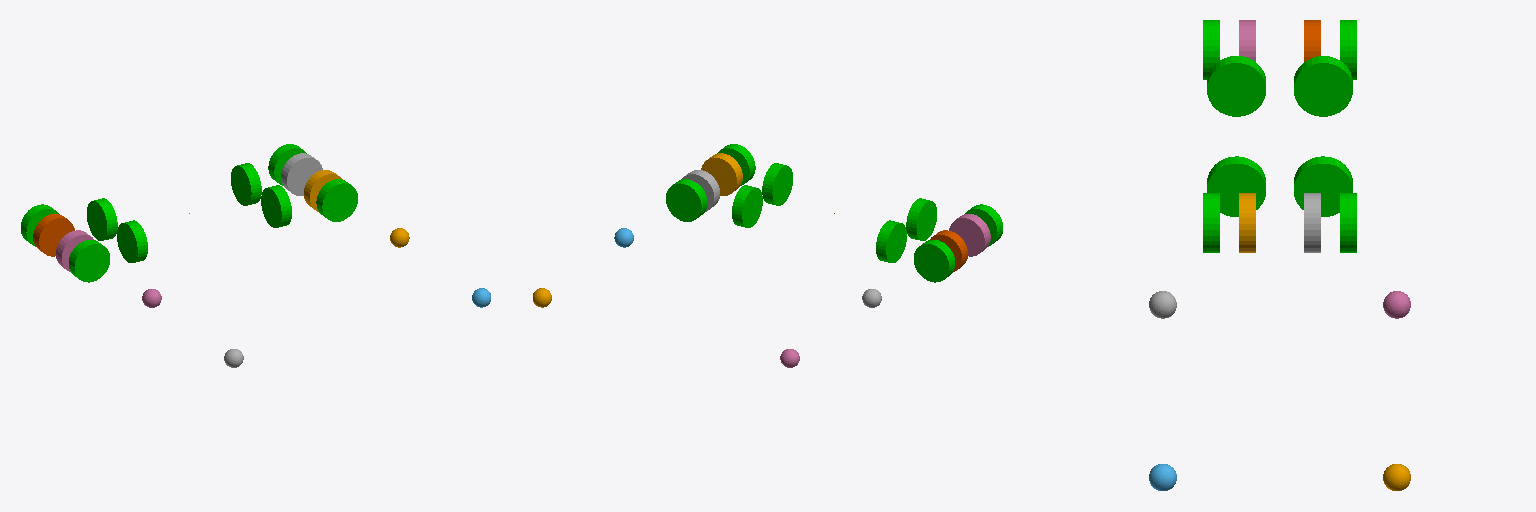
--- What the picture shows (computed from the rendered views, not written in the file) ---
Views: 3 orthographic renders of the robot side by side, from view 1: azimuth 30°, elevation 25°; view 2: azimuth 150°, elevation 25°; view 3: azimuth 270°, elevation 25°.
Robot: aliengo — 31 links, 30 joints (12 revolute, 18 fixed); root link base; default pose: all joints at 0 but 4 set to mid-range because 0 is outside their limits (FR_calf_joint = -1.71, FL_calf_joint = -1.71, RR_calf_joint = -1.71, RL_calf_joint = -1.71).
Links seen in each view (by area): view 1: FR_thigh_rotor, RR_thigh_rotor, FL_calf_rotor, RL_calf_rotor, FR_hip_rotor, RR_hip_rotor, FL_hip_rotor, RL_hip_rotor, RR_calf_rotor, FL_thigh_rotor, FR_calf_rotor, RL_thigh_rotor; view 2: FL_thigh_rotor, RL_thigh_rotor, FR_calf_rotor, RR_calf_rotor, FL_hip_rotor, RL_hip_rotor, FR_hip_rotor, RR_hip_rotor, RL_calf_rotor, FR_thigh_rotor, FL_calf_rotor, RR_thigh_rotor; view 3: RR_hip_rotor, RL_hip_rotor, FR_hip_rotor, FL_hip_rotor, FR_thigh_rotor, FR_calf_rotor, FL_thigh_rotor, FL_calf_rotor, RR_thigh_rotor, RL_thigh_rotor, RR_calf_rotor, RL_calf_rotor (+4 smaller).
Boxes of the visible links, bbox=[...] form: FR_thigh_rotor: bbox=[316, 179, 357, 221]; RR_thigh_rotor: bbox=[69, 240, 109, 282]; FL_calf_rotor: bbox=[281, 153, 322, 195]; RL_calf_rotor: bbox=[33, 214, 74, 256]; FR_hip_rotor: bbox=[261, 185, 291, 227]; RR_hip_rotor: bbox=[117, 220, 147, 262]; FL_hip_rotor: bbox=[231, 163, 261, 205]; RL_hip_rotor: bbox=[87, 198, 117, 240]; RR_calf_rotor: bbox=[56, 230, 93, 271]; FL_thigh_rotor: bbox=[268, 144, 306, 185]; FR_calf_rotor: bbox=[304, 170, 342, 211]; RL_thigh_rotor: bbox=[21, 204, 58, 246]; FL_thigh_rotor: bbox=[666, 179, 707, 221]; RL_thigh_rotor: bbox=[914, 240, 954, 282]; FR_calf_rotor: bbox=[701, 153, 742, 195]; RR_calf_rotor: bbox=[949, 214, 990, 256]; FL_hip_rotor: bbox=[732, 185, 762, 227]; RL_hip_rotor: bbox=[876, 220, 906, 262]; FR_hip_rotor: bbox=[762, 163, 792, 205]; RR_hip_rotor: bbox=[906, 198, 936, 240]; RL_calf_rotor: bbox=[930, 230, 967, 271]; FR_thigh_rotor: bbox=[717, 144, 755, 185]; FL_calf_rotor: bbox=[681, 170, 719, 211]; RR_thigh_rotor: bbox=[965, 204, 1002, 246]; RR_hip_rotor: bbox=[1207, 56, 1265, 116]; RL_hip_rotor: bbox=[1294, 56, 1352, 116]; FR_hip_rotor: bbox=[1207, 156, 1265, 216]; FL_hip_rotor: bbox=[1294, 156, 1352, 216]; FR_thigh_rotor: bbox=[1203, 193, 1219, 252]; FR_calf_rotor: bbox=[1239, 193, 1255, 252]; FL_thigh_rotor: bbox=[1340, 193, 1356, 252]; FL_calf_rotor: bbox=[1304, 193, 1320, 252]; RR_thigh_rotor: bbox=[1203, 20, 1219, 79]; RL_thigh_rotor: bbox=[1340, 20, 1356, 79]; RR_calf_rotor: bbox=[1239, 20, 1255, 61]; RL_calf_rotor: bbox=[1304, 20, 1320, 61].
Size in the robot's own frame: 0.7804 by 0.3086 by 0.2667 metres.
Geometry: only primitive shapes (box / cylinder / sphere) drawn; not drawn: 13 mesh visuals (reference in a form the renderer does not follow).

URDF robot description (aliengo):
<?xml version="1.0" ?>
<!-- =================================================================================== -->
<!-- |    This document was autogenerated by xacro from robot.xacro                    | -->
<!-- |    EDITING THIS FILE BY HAND IS NOT RECOMMENDED                                 | -->
<!-- =================================================================================== -->
<robot name="aliengo">
  <material name="black">
    <color rgba="0.0 0.0 0.0 1.0"/>
  </material>
  <material name="blue">
    <color rgba="0.0 0.0 0.8 1.0"/>
  </material>
  <material name="green">
    <color rgba="0.0 0.8 0.0 1.0"/>
  </material>
  <material name="grey">
    <color rgba="0.2 0.2 0.2 1.0"/>
  </material>
  <material name="silver">
    <color rgba="0.9137254901960784 0.9137254901960784 0.8470588235294118 1.0"/>
  </material>
  <material name="orange">
    <color rgba="1.0 0.4235294117647059 0.0392156862745098 1.0"/>
  </material>
  <material name="brown">
    <color rgba="0.8705882352941177 0.8117647058823529 0.7647058823529411 1.0"/>
  </material>
  <material name="red">
    <color rgba="0.8 0.0 0.0 1.0"/>
  </material>
  <material name="white">
    <color rgba="1.0 1.0 1.0 1.0"/>
  </material>
  <ros2_control name="UnitreeSystem" type="system">
    <hardware>
      <plugin>hardware_unitree_mujoco/HardwareUnitree</plugin>
    </hardware>
    <joint name="FR_hip_joint">
      <command_interface name="position"/>
      <command_interface name="velocity"/>
      <command_interface name="effort"/>
      <command_interface name="kp"/>
      <command_interface name="kd"/>
      <state_interface name="position"/>
      <state_interface name="velocity"/>
      <state_interface name="effort"/>
    </joint>
    <joint name="FR_thigh_joint">
      <command_interface name="position"/>
      <command_interface name="velocity"/>
      <command_interface name="effort"/>
      <command_interface name="kp"/>
      <command_interface name="kd"/>
      <state_interface name="position"/>
      <state_interface name="velocity"/>
      <state_interface name="effort"/>
    </joint>
    <joint name="FR_calf_joint">
      <command_interface name="position"/>
      <command_interface name="velocity"/>
      <command_interface name="effort"/>
      <command_interface name="kp"/>
      <command_interface name="kd"/>
      <state_interface name="position"/>
      <state_interface name="velocity"/>
      <state_interface name="effort"/>
    </joint>
    <joint name="FL_hip_joint">
      <command_interface name="position"/>
      <command_interface name="velocity"/>
      <command_interface name="effort"/>
      <command_interface name="kp"/>
      <command_interface name="kd"/>
      <state_interface name="position"/>
      <state_interface name="velocity"/>
      <state_interface name="effort"/>
    </joint>
    <joint name="FL_thigh_joint">
      <command_interface name="position"/>
      <command_interface name="velocity"/>
      <command_interface name="effort"/>
      <command_interface name="kp"/>
      <command_interface name="kd"/>
      <state_interface name="position"/>
      <state_interface name="velocity"/>
      <state_interface name="effort"/>
    </joint>
    <joint name="FL_calf_joint">
      <command_interface name="position"/>
      <command_interface name="velocity"/>
      <command_interface name="effort"/>
      <command_interface name="kp"/>
      <command_interface name="kd"/>
      <state_interface name="position"/>
      <state_interface name="velocity"/>
      <state_interface name="effort"/>
    </joint>
    <joint name="RR_hip_joint">
      <command_interface name="position"/>
      <command_interface name="velocity"/>
      <command_interface name="effort"/>
      <command_interface name="kp"/>
      <command_interface name="kd"/>
      <state_interface name="position"/>
      <state_interface name="velocity"/>
      <state_interface name="effort"/>
    </joint>
    <joint name="RR_thigh_joint">
      <command_interface name="position"/>
      <command_interface name="velocity"/>
      <command_interface name="effort"/>
      <command_interface name="kp"/>
      <command_interface name="kd"/>
      <state_interface name="position"/>
      <state_interface name="velocity"/>
      <state_interface name="effort"/>
    </joint>
    <joint name="RR_calf_joint">
      <command_interface name="position"/>
      <command_interface name="velocity"/>
      <command_interface name="effort"/>
      <command_interface name="kp"/>
      <command_interface name="kd"/>
      <state_interface name="position"/>
      <state_interface name="velocity"/>
      <state_interface name="effort"/>
    </joint>
    <joint name="RL_hip_joint">
      <command_interface name="position"/>
      <command_interface name="velocity"/>
      <command_interface name="effort"/>
      <command_interface name="kp"/>
      <command_interface name="kd"/>
      <state_interface name="position"/>
      <state_interface name="velocity"/>
      <state_interface name="effort"/>
    </joint>
    <joint name="RL_thigh_joint">
      <command_interface name="position"/>
      <command_interface name="velocity"/>
      <command_interface name="effort"/>
      <command_interface name="kp"/>
      <command_interface name="kd"/>
      <state_interface name="position"/>
      <state_interface name="velocity"/>
      <state_interface name="effort"/>
    </joint>
    <joint name="RL_calf_joint">
      <command_interface name="position"/>
      <command_interface name="velocity"/>
      <command_interface name="effort"/>
      <command_interface name="kp"/>
      <command_interface name="kd"/>
      <state_interface name="position"/>
      <state_interface name="velocity"/>
      <state_interface name="effort"/>
    </joint>
    <sensor name="imu_sensor">
      <state_interface name="orientation.w"/>
      <state_interface name="orientation.x"/>
      <state_interface name="orientation.y"/>
      <state_interface name="orientation.z"/>
      <state_interface name="angular_velocity.x"/>
      <state_interface name="angular_velocity.y"/>
      <state_interface name="angular_velocity.z"/>
      <state_interface name="linear_acceleration.x"/>
      <state_interface name="linear_acceleration.y"/>
      <state_interface name="linear_acceleration.z"/>
    </sensor>
    <sensor name="foot_force">
      <state_interface name="FR"/>
      <state_interface name="FL"/>
      <state_interface name="RR"/>
      <state_interface name="RL"/>
    </sensor>
  </ros2_control>
  <!--    <xacro:include filename="$(find aliengo_description)/xacro/gazebo.xacro"/>-->
  <!-- Rotor related joint and link is only for demonstrate location. -->
  <!-- Actually, the rotor will rotate and the joint is not fixed. Reduction ratio should be considered. -->
  <link name="base">
    <visual>
      <origin rpy="0 0 0" xyz="0 0 0"/>
      <geometry>
        <box size="0.001 0.001 0.001"/>
      </geometry>
    </visual>
  </link>
  <joint name="floating_base" type="fixed">
    <origin rpy="0 0 0" xyz="0 0 0"/>
    <parent link="base"/>
    <child link="trunk"/>
  </joint>
  <link name="trunk">
    <visual>
      <origin rpy="0 0 0" xyz="0 0 0"/>
      <geometry>
        <mesh filename="file://[local-path]/ros2_ws/install/aliengo_description/share/aliengo_description/meshes/trunk.dae" scale="1 1 1"/>
      </geometry>
      <material name="orange"/>
    </visual>
    <collision>
      <origin rpy="0 0 0" xyz="0 0 0"/>
      <geometry>
        <box size="0.647 0.15 0.112"/>
      </geometry>
    </collision>
    <inertial>
      <origin rpy="0 0 0" xyz="0.008811 0.003839 0.000273"/>
      <mass value="11.644"/>
      <inertia ixx="0.051944892" ixy="0.001703617" ixz="0.000235941" iyy="0.24693924" iyz="0.000119783" izz="0.270948307"/>
    </inertial>
  </link>
  <joint name="imu_joint" type="fixed">
    <parent link="trunk"/>
    <child link="imu_link"/>
    <origin rpy="0 0 0" xyz="0 0 0"/>
  </joint>
  <link name="imu_link">
    <inertial>
      <mass value="0.001"/>
      <origin rpy="0 0 0" xyz="0 0 0"/>
      <inertia ixx="0.0001" ixy="0" ixz="0" iyy="0.0001" iyz="0" izz="0.0001"/>
    </inertial>
    <visual>
      <origin rpy="0 0 0" xyz="0 0 0"/>
      <geometry>
        <box size="0.001 0.001 0.001"/>
      </geometry>
      <material name="red"/>
    </visual>
    <collision>
      <origin rpy="0 0 0" xyz="0 0 0"/>
      <geometry>
        <box size=".001 .001 .001"/>
      </geometry>
    </collision>
  </link>
  <joint name="FR_hip_joint" type="revolute">
    <origin rpy="0 0 0" xyz="0.2407 -0.051 0"/>
    <parent link="trunk"/>
    <child link="FR_hip"/>
    <axis xyz="1 0 0"/>
    <dynamics damping="0" friction="0"/>
    <limit effort="35.278" lower="-1.2217304763960306" upper="1.2217304763960306" velocity="20"/>
  </joint>
  <joint name="FR_hip_rotor_joint" type="fixed">
    <origin rpy="0 0 0" xyz="0.139985 -0.051 0"/>
    <parent link="trunk"/>
    <child link="FR_hip_rotor"/>
  </joint>
  <link name="FR_hip">
    <visual>
      <origin rpy="3.141592653589793 0 0" xyz="0 0 0"/>
      <geometry>
        <mesh filename="file://[local-path]/ros2_ws/install/aliengo_description/share/aliengo_description/meshes/hip.dae" scale="1 1 1"/>
      </geometry>
      <material name="orange"/>
    </visual>
    <collision>
      <origin rpy="1.5707963267948966 0 0" xyz="0 -0.083 0"/>
      <geometry>
        <cylinder length="0.0418" radius="0.046"/>
      </geometry>
    </collision>
    <inertial>
      <origin rpy="0 0 0" xyz="-0.022191 -0.015144 -1.5e-05"/>
      <mass value="1.993"/>
      <inertia ixx="0.002446735" ixy="0.00059805" ixz="1.945e-06" iyy="0.003925876" iyz="-1.284e-06" izz="0.004148145"/>
    </inertial>
  </link>
  <link name="FR_hip_rotor">
    <visual>
      <origin rpy="0 1.5707963267948966 0" xyz="0 0 0"/>
      <geometry>
        <cylinder length="0.02" radius="0.035"/>
      </geometry>
      <material name="green"/>
    </visual>
    <inertial>
      <origin rpy="0 0 0" xyz="0.0 0.0 0.0"/>
      <mass value="0.146"/>
      <inertia ixx="0.000138702" ixy="0.0" ixz="0.0" iyy="8.3352e-05" iyz="0.0" izz="8.3352e-05"/>
    </inertial>
  </link>
  <joint name="FR_thigh_joint" type="revolute">
    <origin rpy="0 0 0" xyz="0 -0.0868 0"/>
    <parent link="FR_hip"/>
    <child link="FR_thigh"/>
    <axis xyz="0 1 0"/>
    <dynamics damping="0" friction="0"/>
    <limit effort="35.278" lower="-2.0943951023931953" upper="4.1887902047863905" velocity="20"/>
  </joint>
  <joint name="FR_thigh_rotor_joint" type="fixed">
    <origin rpy="0 0 0" xyz="0.0 -0.0298 0"/>
    <parent link="FR_hip"/>
    <child link="FR_thigh_rotor"/>
  </joint>
  <link name="FR_thigh">
    <visual>
      <origin rpy="0 0 0" xyz="0 0 0"/>
      <geometry>
        <mesh filename="file://[local-path]/ros2_ws/install/aliengo_description/share/aliengo_description/meshes/thigh_mirror.dae" scale="1 1 1"/>
      </geometry>
      <material name="orange"/>
    </visual>
    <collision>
      <origin rpy="0 1.5707963267948966 0" xyz="0 0 -0.125"/>
      <geometry>
        <box size="0.25 0.0374 0.043"/>
      </geometry>
    </collision>
    <inertial>
      <origin rpy="0 0 0" xyz="-0.005607 0.003877 -0.048199"/>
      <mass value="0.639"/>
      <inertia ixx="0.004173855" ixy="-1.0284e-05" ixz="-0.000318874" iyy="0.004343802" iyz="-0.000109233" izz="0.000340136"/>
    </inertial>
  </link>
  <link name="FR_thigh_rotor">
    <visual>
      <origin rpy="1.5707963267948966 0 0" xyz="0 0 0"/>
      <geometry>
        <cylinder length="0.02" radius="0.035"/>
      </geometry>
      <material name="green"/>
    </visual>
    <inertial>
      <origin rpy="0 0 0" xyz="0.0 0.0 0.0"/>
      <mass value="0.146"/>
      <inertia ixx="8.3352e-05" ixy="0.0" ixz="0.0" iyy="0.000138702" iyz="0.0" izz="8.3352e-05"/>
    </inertial>
  </link>
  <joint name="FR_calf_joint" type="revolute">
    <origin rpy="0 0 0" xyz="0 0 -0.25"/>
    <parent link="FR_thigh"/>
    <child link="FR_calf"/>
    <axis xyz="0 1 0"/>
    <dynamics damping="0" friction="0"/>
    <limit effort="44.4" lower="-2.775073510670984" upper="-0.6457718232379019" velocity="15.89"/>
  </joint>
  <joint name="FR_calf_rotor_joint" type="fixed">
    <origin rpy="0 0 0" xyz="0.0 0.0997 0"/>
    <parent link="FR_thigh"/>
    <child link="FR_calf_rotor"/>
  </joint>
  <link name="FR_calf">
    <visual>
      <origin rpy="0 0 0" xyz="0 0 0"/>
      <geometry>
        <mesh filename="file://[local-path]/ros2_ws/install/aliengo_description/share/aliengo_description/meshes/calf.dae" scale="1 1 1"/>
      </geometry>
    </visual>
    <collision>
      <origin rpy="0 1.5707963267948966 0" xyz="0 0 -0.125"/>
      <geometry>
        <box size="0.25 0.0208 0.016"/>
      </geometry>
    </collision>
    <inertial>
      <origin rpy="0 0 0" xyz="0.002781 6.3e-05 -0.142518"/>
      <mass value="0.207"/>
      <inertia ixx="0.002129279" ixy="3.9e-08" ixz="5.757e-06" iyy="0.002141463" iyz="-5.16e-07" izz="3.7583e-05"/>
    </inertial>
  </link>
  <link name="FR_calf_rotor">
    <visual>
      <origin rpy="1.5707963267948966 0 0" xyz="0 0 0"/>
      <geometry>
        <cylinder length="0.02" radius="0.035"/>
      </geometry>
    </visual>
    <inertial>
      <origin rpy="0 0 0" xyz="0.0 0.0 0.0"/>
      <mass value="0.132"/>
      <inertia ixx="0.000145463" ixy="0.0" ixz="0.0" iyy="0.000133031" iyz="0.0" izz="0.000145463"/>
    </inertial>
  </link>
  <joint name="FR_foot_fixed" type="fixed">
    <origin rpy="0 0 0" xyz="0 0 -0.25"/>
    <parent link="FR_calf"/>
    <child link="FR_foot"/>
  </joint>
  <link name="FR_foot">
    <visual>
      <origin rpy="0 0 0" xyz="0 0 0"/>
      <geometry>
        <sphere radius="0.0165"/>
      </geometry>
    </visual>
    <collision>
      <origin rpy="0 0 0" xyz="0 0 0"/>
      <geometry>
        <sphere radius="0.0265"/>
      </geometry>
    </collision>
    <inertial>
      <mass value="0.06"/>
      <inertia ixx="1.6853999999999998e-05" ixy="0.0" ixz="0.0" iyy="1.6853999999999998e-05" iyz="0.0" izz="1.6853999999999998e-05"/>
    </inertial>
  </link>
  <transmission name="FR_hip_tran">
    <type>transmission_interface/SimpleTransmission</type>
    <joint name="FR_hip_joint">
      <hardwareInterface>hardware_interface/EffortJointInterface</hardwareInterface>
    </joint>
    <actuator name="FR_hip_motor">
      <hardwareInterface>hardware_interface/EffortJointInterface</hardwareInterface>
      <mechanicalReduction>1</mechanicalReduction>
    </actuator>
  </transmission>
  <transmission name="FR_thigh_tran">
    <type>transmission_interface/SimpleTransmission</type>
    <joint name="FR_thigh_joint">
      <hardwareInterface>hardware_interface/EffortJointInterface</hardwareInterface>
    </joint>
    <actuator name="FR_thigh_motor">
      <hardwareInterface>hardware_interface/EffortJointInterface</hardwareInterface>
      <mechanicalReduction>1</mechanicalReduction>
    </actuator>
  </transmission>
  <transmission name="FR_calf_tran">
    <type>transmission_interface/SimpleTransmission</type>
    <joint name="FR_calf_joint">
      <hardwareInterface>hardware_interface/EffortJointInterface</hardwareInterface>
    </joint>
    <actuator name="FR_calf_motor">
      <hardwareInterface>hardware_interface/EffortJointInterface</hardwareInterface>
      <mechanicalReduction>1</mechanicalReduction>
    </actuator>
  </transmission>
  <joint name="FL_hip_joint" type="revolute">
    <origin rpy="0 0 0" xyz="0.2407 0.051 0"/>
    <parent link="trunk"/>
    <child link="FL_hip"/>
    <axis xyz="1 0 0"/>
    <dynamics damping="0" friction="0"/>
    <limit effort="35.278" lower="-1.2217304763960306" upper="1.2217304763960306" velocity="20"/>
  </joint>
  <joint name="FL_hip_rotor_joint" type="fixed">
    <origin rpy="0 0 0" xyz="0.139985 0.051 0"/>
    <parent link="trunk"/>
    <child link="FL_hip_rotor"/>
  </joint>
  <link name="FL_hip">
    <visual>
      <origin rpy="0 0 0" xyz="0 0 0"/>
      <geometry>
        <mesh filename="file://[local-path]/ros2_ws/install/aliengo_description/share/aliengo_description/meshes/hip.dae" scale="1 1 1"/>
      </geometry>
      <material name="orange"/>
    </visual>
    <collision>
      <origin rpy="1.5707963267948966 0 0" xyz="0 0.083 0"/>
      <geometry>
        <cylinder length="0.0418" radius="0.046"/>
      </geometry>
    </collision>
    <inertial>
      <origin rpy="0 0 0" xyz="-0.022191 0.015144 -1.5e-05"/>
      <mass value="1.993"/>
      <inertia ixx="0.002446735" ixy="-0.00059805" ixz="1.945e-06" iyy="0.003925876" iyz="1.284e-06" izz="0.004148145"/>
    </inertial>
  </link>
  <link name="FL_hip_rotor">
    <visual>
      <origin rpy="0 1.5707963267948966 0" xyz="0 0 0"/>
      <geometry>
        <cylinder length="0.02" radius="0.035"/>
      </geometry>
      <material name="green"/>
    </visual>
    <inertial>
      <origin rpy="0 0 0" xyz="0.0 0.0 0.0"/>
      <mass value="0.146"/>
      <inertia ixx="0.000138702" ixy="0.0" ixz="0.0" iyy="8.3352e-05" iyz="0.0" izz="8.3352e-05"/>
    </inertial>
  </link>
  <joint name="FL_thigh_joint" type="revolute">
    <origin rpy="0 0 0" xyz="0 0.0868 0"/>
    <parent link="FL_hip"/>
    <child link="FL_thigh"/>
    <axis xyz="0 1 0"/>
    <dynamics damping="0" friction="0"/>
    <limit effort="35.278" lower="-2.0943951023931953" upper="4.1887902047863905" velocity="20"/>
  </joint>
  <joint name="FL_thigh_rotor_joint" type="fixed">
    <origin rpy="0 0 0" xyz="0.0 0.0298 0"/>
    <parent link="FL_hip"/>
    <child link="FL_thigh_rotor"/>
  </joint>
  <link name="FL_thigh">
    <visual>
      <origin rpy="0 0 0" xyz="0 0 0"/>
      <geometry>
        <mesh filename="file://[local-path]/ros2_ws/install/aliengo_description/share/aliengo_description/meshes/thigh.dae" scale="1 1 1"/>
      </geometry>
      <material name="orange"/>
    </visual>
    <collision>
      <origin rpy="0 1.5707963267948966 0" xyz="0 0 -0.125"/>
      <geometry>
        <box size="0.25 0.0374 0.043"/>
      </geometry>
    </collision>
    <inertial>
      <origin rpy="0 0 0" xyz="-0.005607 -0.003877 -0.048199"/>
      <mass value="0.639"/>
      <inertia ixx="0.004173855" ixy="1.0284e-05" ixz="-0.000318874" iyy="0.004343802" iyz="0.000109233" izz="0.000340136"/>
    </inertial>
  </link>
  <link name="FL_thigh_rotor">
    <visual>
      <origin rpy="1.5707963267948966 0 0" xyz="0 0 0"/>
      <geometry>
        <cylinder length="0.02" radius="0.035"/>
      </geometry>
      <material name="green"/>
    </visual>
    <inertial>
      <origin rpy="0 0 0" xyz="0.0 0.0 0.0"/>
      <mass value="0.146"/>
      <inertia ixx="8.3352e-05" ixy="0.0" ixz="0.0" iyy="0.000138702" iyz="0.0" izz="8.3352e-05"/>
    </inertial>
  </link>
  <joint name="FL_calf_joint" type="revolute">
    <origin rpy="0 0 0" xyz="0 0 -0.25"/>
    <parent link="FL_thigh"/>
    <child link="FL_calf"/>
    <axis xyz="0 1 0"/>
    <dynamics damping="0" friction="0"/>
    <limit effort="44.4" lower="-2.775073510670984" upper="-0.6457718232379019" velocity="15.89"/>
  </joint>
  <joint name="FL_calf_rotor_joint" type="fixed">
    <origin rpy="0 0 0" xyz="0.0 -0.0997 0"/>
    <parent link="FL_thigh"/>
    <child link="FL_calf_rotor"/>
  </joint>
  <link name="FL_calf">
    <visual>
      <origin rpy="0 0 0" xyz="0 0 0"/>
      <geometry>
        <mesh filename="file://[local-path]/ros2_ws/install/aliengo_description/share/aliengo_description/meshes/calf.dae" scale="1 1 1"/>
      </geometry>
    </visual>
    <collision>
      <origin rpy="0 1.5707963267948966 0" xyz="0 0 -0.125"/>
      <geometry>
        <box size="0.25 0.0208 0.016"/>
      </geometry>
    </collision>
    <inertial>
      <origin rpy="0 0 0" xyz="0.002781 6.3e-05 -0.142518"/>
      <mass value="0.207"/>
      <inertia ixx="0.002129279" ixy="3.9e-08" ixz="5.757e-06" iyy="0.002141463" iyz="-5.16e-07" izz="3.7583e-05"/>
    </inertial>
  </link>
  <link name="FL_calf_rotor">
    <visual>
      <origin rpy="1.5707963267948966 0 0" xyz="0 0 0"/>
      <geometry>
        <cylinder length="0.02" radius="0.035"/>
      </geometry>
    </visual>
    <inertial>
      <origin rpy="0 0 0" xyz="0.0 0.0 0.0"/>
      <mass value="0.132"/>
      <inertia ixx="0.000145463" ixy="0.0" ixz="0.0" iyy="0.000133031" iyz="0.0" izz="0.000145463"/>
    </inertial>
  </link>
  <joint name="FL_foot_fixed" type="fixed">
    <origin rpy="0 0 0" xyz="0 0 -0.25"/>
    <parent link="FL_calf"/>
    <child link="FL_foot"/>
  </joint>
  <link name="FL_foot">
    <visual>
      <origin rpy="0 0 0" xyz="0 0 0"/>
      <geometry>
        <sphere radius="0.0165"/>
      </geometry>
    </visual>
    <collision>
      <origin rpy="0 0 0" xyz="0 0 0"/>
      <geometry>
        <sphere radius="0.0265"/>
      </geometry>
    </collision>
    <inertial>
      <mass value="0.06"/>
      <inertia ixx="1.6853999999999998e-05" ixy="0.0" ixz="0.0" iyy="1.6853999999999998e-05" iyz="0.0" izz="1.6853999999999998e-05"/>
    </inertial>
  </link>
  <transmission name="FL_hip_tran">
    <type>transmission_interface/SimpleTransmission</type>
    <joint name="FL_hip_joint">
      <hardwareInterface>hardware_interface/EffortJointInterface</hardwareInterface>
    </joint>
    <actuator name="FL_hip_motor">
      <hardwareInterface>hardware_interface/EffortJointInterface</hardwareInterface>
      <mechanicalReduction>1</mechanicalReduction>
    </actuator>
  </transmission>
  <transmission name="FL_thigh_tran">
    <type>transmission_interface/SimpleTransmission</type>
    <joint name="FL_thigh_joint">
      <hardwareInterface>hardware_interface/EffortJointInterface</hardwareInterface>
    </joint>
    <actuator name="FL_thigh_motor">
      <hardwareInterface>hardware_interface/EffortJointInterface</hardwareInterface>
      <mechanicalReduction>1</mechanicalReduction>
    </actuator>
  </transmission>
  <transmission name="FL_calf_tran">
    <type>transmission_interface/SimpleTransmission</type>
    <joint name="FL_calf_joint">
      <hardwareInterface>hardware_interface/EffortJointInterface</hardwareInterface>
    </joint>
    <actuator name="FL_calf_motor">
      <hardwareInterface>hardware_interface/EffortJointInterface</hardwareInterface>
      <mechanicalReduction>1</mechanicalReduction>
    </actuator>
  </transmission>
  <joint name="RR_hip_joint" type="revolute">
    <origin rpy="0 0 0" xyz="-0.2407 -0.051 0"/>
    <parent link="trunk"/>
    <child link="RR_hip"/>
    <axis xyz="1 0 0"/>
    <dynamics damping="0" friction="0"/>
    <limit effort="35.278" lower="-1.2217304763960306" upper="1.2217304763960306" velocity="20"/>
  </joint>
  <joint name="RR_hip_rotor_joint" type="fixed">
    <origin rpy="0 0 0" xyz="-0.139985 -0.051 0"/>
    <parent link="trunk"/>
    <child link="RR_hip_rotor"/>
  </joint>
  <link name="RR_hip">
    <visual>
      <origin rpy="3.141592653589793 3.141592653589793 0" xyz="0 0 0"/>
      <geometry>
        <mesh filename="file://[local-path]/ros2_ws/install/aliengo_description/share/aliengo_description/meshes/hip.dae" scale="1 1 1"/>
      </geometry>
      <material name="orange"/>
    </visual>
    <collision>
      <origin rpy="1.5707963267948966 0 0" xyz="0 -0.083 0"/>
      <geometry>
        <cylinder length="0.0418" radius="0.046"/>
      </geometry>
    </collision>
    <inertial>
      <origin rpy="0 0 0" xyz="0.022191 -0.015144 -1.5e-05"/>
      <mass value="1.993"/>
      <inertia ixx="0.002446735" ixy="-0.00059805" ixz="-1.945e-06" iyy="0.003925876" iyz="-1.284e-06" izz="0.004148145"/>
    </inertial>
  </link>
  <link name="RR_hip_rotor">
    <visual>
      <origin rpy="0 1.5707963267948966 0" xyz="0 0 0"/>
      <geometry>
        <cylinder length="0.02" radius="0.035"/>
      </geometry>
      <material name="green"/>
    </visual>
    <inertial>
      <origin rpy="0 0 0" xyz="0.0 0.0 0.0"/>
      <mass value="0.146"/>
      <inertia ixx="0.000138702" ixy="0.0" ixz="0.0" iyy="8.3352e-05" iyz="0.0" izz="8.3352e-05"/>
    </inertial>
  </link>
  <joint name="RR_thigh_joint" type="revolute">
    <origin rpy="0 0 0" xyz="0 -0.0868 0"/>
    <parent link="RR_hip"/>
    <child link="RR_thigh"/>
    <axis xyz="0 1 0"/>
    <dynamics damping="0" friction="0"/>
    <limit effort="35.278" lower="-2.0943951023931953" upper="4.1887902047863905" velocity="20"/>
  </joint>
  <joint name="RR_thigh_rotor_joint" type="fixed">
    <origin rpy="0 0 0" xyz="0.0 -0.0298 0"/>
    <parent link="RR_hip"/>
    <child link="RR_thigh_rotor"/>
  </joint>
  <link name="RR_thigh">
    <visual>
      <origin rpy="0 0 0" xyz="0 0 0"/>
      <geometry>
        <mesh filename="file://[local-path]/ros2_ws/install/aliengo_description/share/aliengo_description/meshes/thigh_mirror.dae" scale="1 1 1"/>
      </geometry>
      <material name="orange"/>
    </visual>
    <collision>
      <origin rpy="0 1.5707963267948966 0" xyz="0 0 -0.125"/>
      <geometry>
        <box size="0.25 0.0374 0.043"/>
      </geometry>
    </collision>
    <inertial>
      <origin rpy="0 0 0" xyz="-0.005607 0.003877 -0.048199"/>
      <mass value="0.639"/>
      <inertia ixx="0.004173855" ixy="-1.0284e-05" ixz="-0.000318874" iyy="0.004343802" iyz="-0.000109233" izz="0.000340136"/>
    </inertial>
  </link>
  <link name="RR_thigh_rotor">
    <visual>
      <origin rpy="1.5707963267948966 0 0" xyz="0 0 0"/>
      <geometry>
        <cylinder length="0.02" radius="0.035"/>
      </geometry>
      <material name="green"/>
    </visual>
    <inertial>
      <origin rpy="0 0 0" xyz="0.0 0.0 0.0"/>
      <mass value="0.146"/>
      <inertia ixx="8.3352e-05" ixy="0.0" ixz="0.0" iyy="0.000138702" iyz="0.0" izz="8.3352e-05"/>
    </inertial>
  </link>
  <joint name="RR_calf_joint" type="revolute">
    <origin rpy="0 0 0" xyz="0 0 -0.25"/>
    <parent link="RR_thigh"/>
    <child link="RR_calf"/>
    <axis xyz="0 1 0"/>
    <dynamics damping="0" friction="0"/>
    <limit effort="44.4" lower="-2.775073510670984" upper="-0.6457718232379019" velocity="15.89"/>
  </joint>
  <joint name="RR_calf_rotor_joint" type="fixed">
    <origin rpy="0 0 0" xyz="0.0 0.0997 0"/>
    <parent link="RR_thigh"/>
    <child link="RR_calf_rotor"/>
  </joint>
  <link name="RR_calf">
    <visual>
      <origin rpy="0 0 0" xyz="0 0 0"/>
      <geometry>
        <mesh filename="file://[local-path]/ros2_ws/install/aliengo_description/share/aliengo_description/meshes/calf.dae" scale="1 1 1"/>
      </geometry>
    </visual>
    <collision>
      <origin rpy="0 1.5707963267948966 0" xyz="0 0 -0.125"/>
      <geometry>
        <box size="0.25 0.0208 0.016"/>
      </geometry>
    </collision>
    <inertial>
      <origin rpy="0 0 0" xyz="0.002781 6.3e-05 -0.142518"/>
      <mass value="0.207"/>
      <inertia ixx="0.002129279" ixy="3.9e-08" ixz="5.757e-06" iyy="0.002141463" iyz="-5.16e-07" izz="3.7583e-05"/>
    </inertial>
  </link>
  <link name="RR_calf_rotor">
    <visual>
      <origin rpy="1.5707963267948966 0 0" xyz="0 0 0"/>
      <geometry>
        <cylinder length="0.02" radius="0.035"/>
      </geometry>
    </visual>
    <inertial>
      <origin rpy="0 0 0" xyz="0.0 0.0 0.0"/>
      <mass value="0.132"/>
      <inertia ixx="0.000145463" ixy="0.0" ixz="0.0" iyy="0.000133031" iyz="0.0" izz="0.000145463"/>
    </inertial>
  </link>
  <joint name="RR_foot_fixed" type="fixed">
    <origin rpy="0 0 0" xyz="0 0 -0.25"/>
    <parent link="RR_calf"/>
    <child link="RR_foot"/>
  </joint>
  <link name="RR_foot">
    <visual>
      <origin rpy="0 0 0" xyz="0 0 0"/>
      <geometry>
        <sphere radius="0.0165"/>
      </geometry>
    </visual>
    <collision>
      <origin rpy="0 0 0" xyz="0 0 0"/>
      <geometry>
        <sphere radius="0.0265"/>
      </geometry>
    </collision>
    <inertial>
      <mass value="0.06"/>
      <inertia ixx="1.6853999999999998e-05" ixy="0.0" ixz="0.0" iyy="1.6853999999999998e-05" iyz="0.0" izz="1.6853999999999998e-05"/>
    </inertial>
  </link>
  <transmission name="RR_hip_tran">
    <type>transmission_interface/SimpleTransmission</type>
    <joint name="RR_hip_joint">
      <hardwareInterface>hardware_interface/EffortJointInterface</hardwareInterface>
    </joint>
    <actuator name="RR_hip_motor">
      <hardwareInterface>hardware_interface/EffortJointInterface</hardwareInterface>
      <mechanicalReduction>1</mechanicalReduction>
    </actuator>
  </transmission>
  <transmission name="RR_thigh_tran">
    <type>transmission_interface/SimpleTransmission</type>
    <joint name="RR_thigh_joint">
      <hardwareInterface>hardware_interface/EffortJointInterface</hardwareInterface>
    </joint>
    <actuator name="RR_thigh_motor">
      <hardwareInterface>hardware_interface/EffortJointInterface</hardwareInterface>
      <mechanicalReduction>1</mechanicalReduction>
    </actuator>
  </transmission>
  <transmission name="RR_calf_tran">
    <type>transmission_interface/SimpleTransmission</type>
    <joint name="RR_calf_joint">
      <hardwareInterface>hardware_interface/EffortJointInterface</hardwareInterface>
    </joint>
    <actuator name="RR_calf_motor">
      <hardwareInterface>hardware_interface/EffortJointInterface</hardwareInterface>
      <mechanicalReduction>1</mechanicalReduction>
    </actuator>
  </transmission>
  <joint name="RL_hip_joint" type="revolute">
    <origin rpy="0 0 0" xyz="-0.2407 0.051 0"/>
    <parent link="trunk"/>
    <child link="RL_hip"/>
    <axis xyz="1 0 0"/>
    <dynamics damping="0" friction="0"/>
    <limit effort="35.278" lower="-1.2217304763960306" upper="1.2217304763960306" velocity="20"/>
  </joint>
  <joint name="RL_hip_rotor_joint" type="fixed">
    <origin rpy="0 0 0" xyz="-0.139985 0.051 0"/>
    <parent link="trunk"/>
    <child link="RL_hip_rotor"/>
  </joint>
  <link name="RL_hip">
    <visual>
      <origin rpy="0 3.141592653589793 0" xyz="0 0 0"/>
      <geometry>
        <mesh filename="file://[local-path]/ros2_ws/install/aliengo_description/share/aliengo_description/meshes/hip.dae" scale="1 1 1"/>
      </geometry>
      <material name="orange"/>
    </visual>
    <collision>
      <origin rpy="1.5707963267948966 0 0" xyz="0 0.083 0"/>
      <geometry>
        <cylinder length="0.0418" radius="0.046"/>
      </geometry>
    </collision>
    <inertial>
      <origin rpy="0 0 0" xyz="0.022191 0.015144 -1.5e-05"/>
      <mass value="1.993"/>
      <inertia ixx="0.002446735" ixy="0.00059805" ixz="-1.945e-06" iyy="0.003925876" iyz="1.284e-06" izz="0.004148145"/>
    </inertial>
  </link>
  <link name="RL_hip_rotor">
    <visual>
      <origin rpy="0 1.5707963267948966 0" xyz="0 0 0"/>
      <geometry>
        <cylinder length="0.02" radius="0.035"/>
      </geometry>
      <material name="green"/>
    </visual>
    <inertial>
      <origin rpy="0 0 0" xyz="0.0 0.0 0.0"/>
      <mass value="0.146"/>
      <inertia ixx="0.000138702" ixy="0.0" ixz="0.0" iyy="8.3352e-05" iyz="0.0" izz="8.3352e-05"/>
    </inertial>
  </link>
  <joint name="RL_thigh_joint" type="revolute">
    <origin rpy="0 0 0" xyz="0 0.0868 0"/>
    <parent link="RL_hip"/>
    <child link="RL_thigh"/>
    <axis xyz="0 1 0"/>
    <dynamics damping="0" friction="0"/>
    <limit effort="35.278" lower="-2.0943951023931953" upper="4.1887902047863905" velocity="20"/>
  </joint>
  <joint name="RL_thigh_rotor_joint" type="fixed">
    <origin rpy="0 0 0" xyz="0.0 0.0298 0"/>
    <parent link="RL_hip"/>
    <child link="RL_thigh_rotor"/>
  </joint>
  <link name="RL_thigh">
    <visual>
      <origin rpy="0 0 0" xyz="0 0 0"/>
      <geometry>
        <mesh filename="file://[local-path]/ros2_ws/install/aliengo_description/share/aliengo_description/meshes/thigh.dae" scale="1 1 1"/>
      </geometry>
      <material name="orange"/>
    </visual>
    <collision>
      <origin rpy="0 1.5707963267948966 0" xyz="0 0 -0.125"/>
      <geometry>
        <box size="0.25 0.0374 0.043"/>
      </geometry>
    </collision>
    <inertial>
      <origin rpy="0 0 0" xyz="-0.005607 -0.003877 -0.048199"/>
      <mass value="0.639"/>
      <inertia ixx="0.004173855" ixy="1.0284e-05" ixz="-0.000318874" iyy="0.004343802" iyz="0.000109233" izz="0.000340136"/>
    </inertial>
  </link>
  <link name="RL_thigh_rotor">
    <visual>
      <origin rpy="1.5707963267948966 0 0" xyz="0 0 0"/>
      <geometry>
        <cylinder length="0.02" radius="0.035"/>
      </geometry>
      <material name="green"/>
    </visual>
    <inertial>
      <origin rpy="0 0 0" xyz="0.0 0.0 0.0"/>
      <mass value="0.146"/>
      <inertia ixx="8.3352e-05" ixy="0.0" ixz="0.0" iyy="0.000138702" iyz="0.0" izz="8.3352e-05"/>
    </inertial>
  </link>
  <joint name="RL_calf_joint" type="revolute">
    <origin rpy="0 0 0" xyz="0 0 -0.25"/>
    <parent link="RL_thigh"/>
    <child link="RL_calf"/>
    <axis xyz="0 1 0"/>
    <dynamics damping="0" friction="0"/>
    <limit effort="44.4" lower="-2.775073510670984" upper="-0.6457718232379019" velocity="15.89"/>
  </joint>
  <joint name="RL_calf_rotor_joint" type="fixed">
    <origin rpy="0 0 0" xyz="0.0 -0.0997 0"/>
    <parent link="RL_thigh"/>
    <child link="RL_calf_rotor"/>
  </joint>
  <link name="RL_calf">
    <visual>
      <origin rpy="0 0 0" xyz="0 0 0"/>
      <geometry>
        <mesh filename="file://[local-path]/ros2_ws/install/aliengo_description/share/aliengo_description/meshes/calf.dae" scale="1 1 1"/>
      </geometry>
    </visual>
    <collision>
      <origin rpy="0 1.5707963267948966 0" xyz="0 0 -0.125"/>
      <geometry>
        <box size="0.25 0.0208 0.016"/>
      </geometry>
    </collision>
    <inertial>
      <origin rpy="0 0 0" xyz="0.002781 6.3e-05 -0.142518"/>
      <mass value="0.207"/>
      <inertia ixx="0.002129279" ixy="3.9e-08" ixz="5.757e-06" iyy="0.002141463" iyz="-5.16e-07" izz="3.7583e-05"/>
    </inertial>
  </link>
  <link name="RL_calf_rotor">
    <visual>
      <origin rpy="1.5707963267948966 0 0" xyz="0 0 0"/>
      <geometry>
        <cylinder length="0.02" radius="0.035"/>
      </geometry>
    </visual>
    <inertial>
      <origin rpy="0 0 0" xyz="0.0 0.0 0.0"/>
      <mass value="0.132"/>
      <inertia ixx="0.000145463" ixy="0.0" ixz="0.0" iyy="0.000133031" iyz="0.0" izz="0.000145463"/>
    </inertial>
  </link>
  <joint name="RL_foot_fixed" type="fixed">
    <origin rpy="0 0 0" xyz="0 0 -0.25"/>
    <parent link="RL_calf"/>
    <child link="RL_foot"/>
  </joint>
  <link name="RL_foot">
    <visual>
      <origin rpy="0 0 0" xyz="0 0 0"/>
      <geometry>
        <sphere radius="0.0165"/>
      </geometry>
    </visual>
    <collision>
      <origin rpy="0 0 0" xyz="0 0 0"/>
      <geometry>
        <sphere radius="0.0265"/>
      </geometry>
    </collision>
    <inertial>
      <mass value="0.06"/>
      <inertia ixx="1.6853999999999998e-05" ixy="0.0" ixz="0.0" iyy="1.6853999999999998e-05" iyz="0.0" izz="1.6853999999999998e-05"/>
    </inertial>
  </link>
  <transmission name="RL_hip_tran">
    <type>transmission_interface/SimpleTransmission</type>
    <joint name="RL_hip_joint">
      <hardwareInterface>hardware_interface/EffortJointInterface</hardwareInterface>
    </joint>
    <actuator name="RL_hip_motor">
      <hardwareInterface>hardware_interface/EffortJointInterface</hardwareInterface>
      <mechanicalReduction>1</mechanicalReduction>
    </actuator>
  </transmission>
  <transmission name="RL_thigh_tran">
    <type>transmission_interface/SimpleTransmission</type>
    <joint name="RL_thigh_joint">
      <hardwareInterface>hardware_interface/EffortJointInterface</hardwareInterface>
    </joint>
    <actuator name="RL_thigh_motor">
      <hardwareInterface>hardware_interface/EffortJointInterface</hardwareInterface>
      <mechanicalReduction>1</mechanicalReduction>
    </actuator>
  </transmission>
  <transmission name="RL_calf_tran">
    <type>transmission_interface/SimpleTransmission</type>
    <joint name="RL_calf_joint">
      <hardwareInterface>hardware_interface/EffortJointInterface</hardwareInterface>
    </joint>
    <actuator name="RL_calf_motor">
      <hardwareInterface>hardware_interface/EffortJointInterface</hardwareInterface>
      <mechanicalReduction>1</mechanicalReduction>
    </actuator>
  </transmission>
  <!-- <xacro:stairs stairs="15" xpos="0" ypos="2.0" zpos="0" /> -->
</robot>
